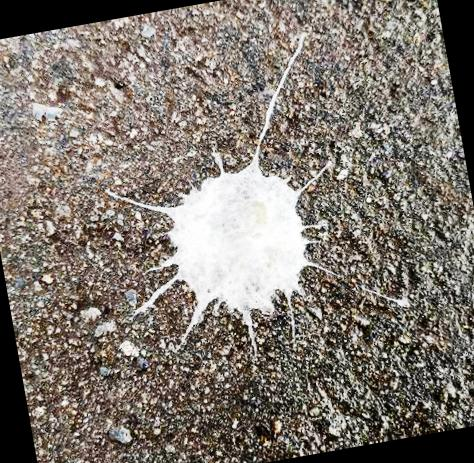Bird Poop: (109, 34, 315, 347)
